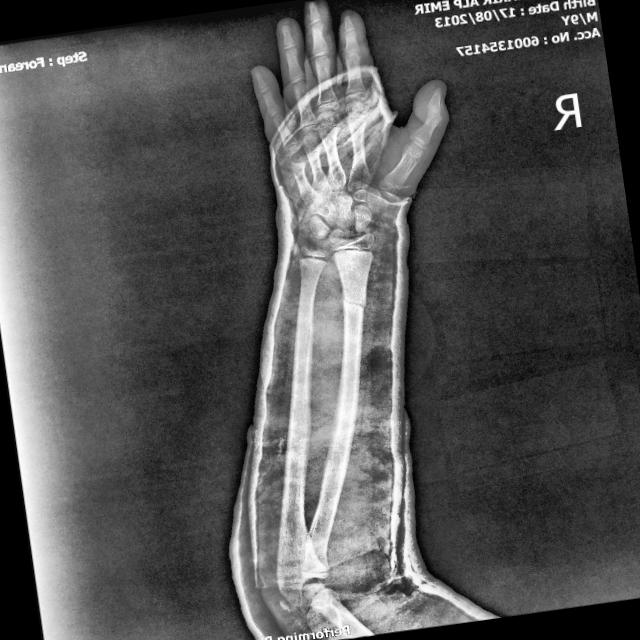Fracture: (327, 288, 378, 320)
